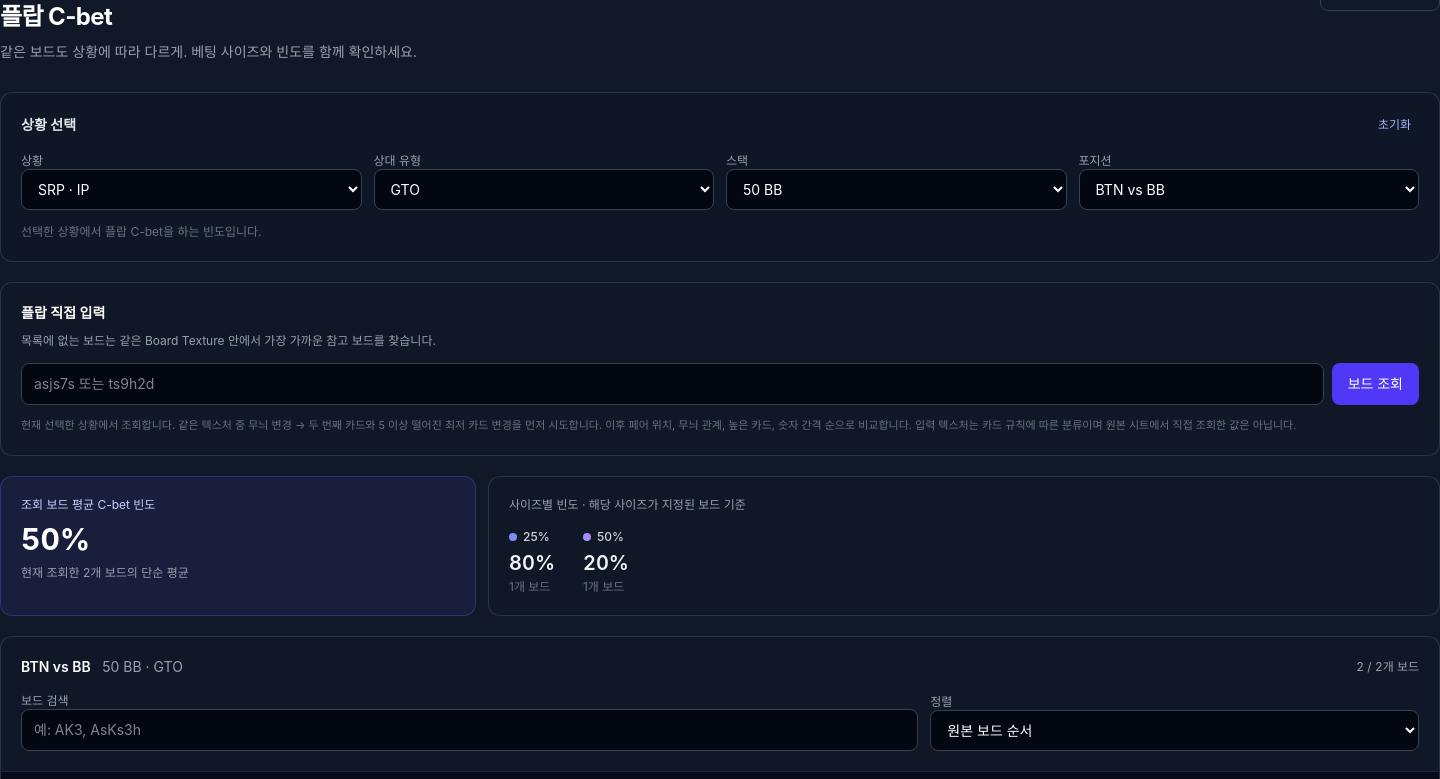
updates graph, dependent controls and action labels without retaining invalid combinations
Expected: the text named "조회 보드 평균 빈도" reads "50%", x1=21 y1=521 x2=90 y2=557
Select "Calling Station" in the dropdown labelled "상대 유형" at (544, 189), box x1=374 y1=169 x2=714 y2=210
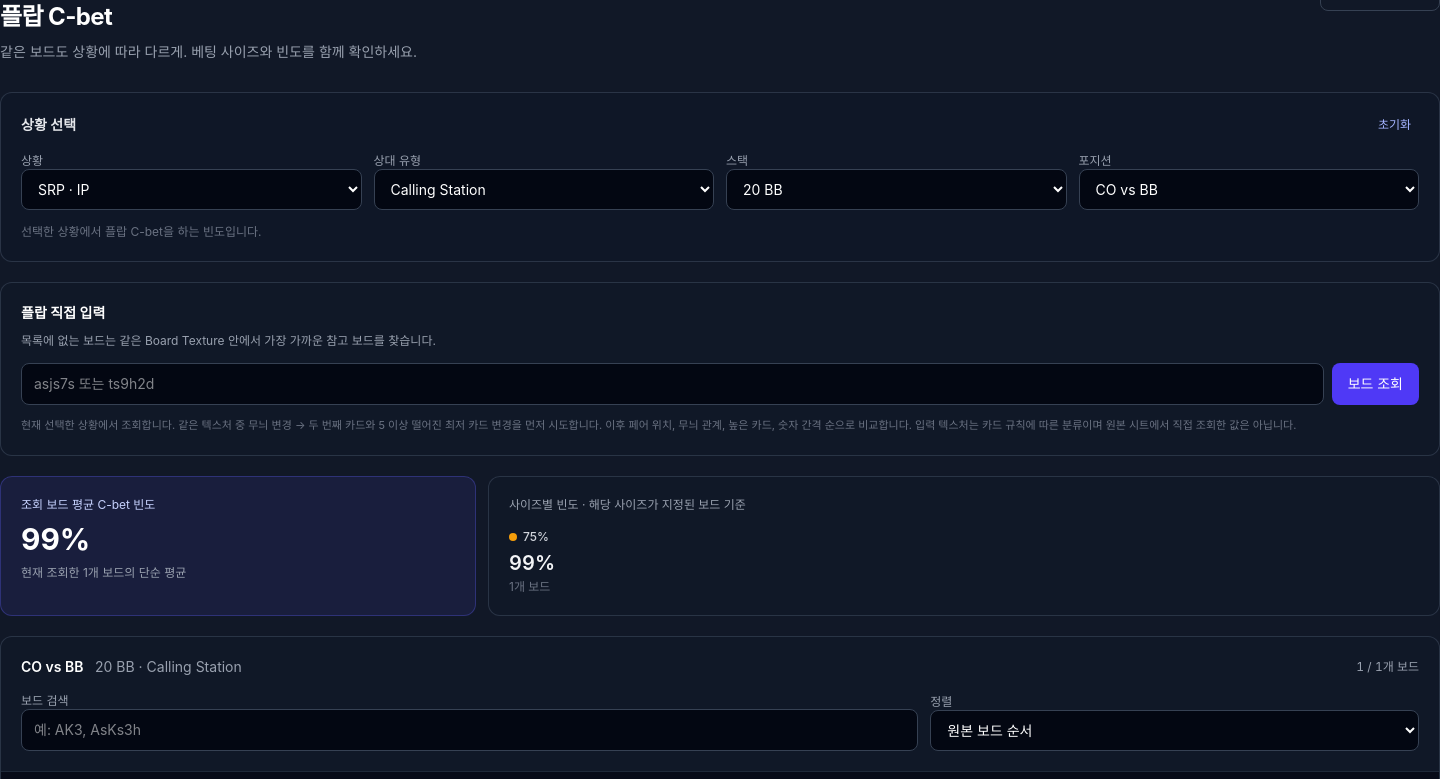
Expected: the dropdown named "스택" shows "20 BB", x1=726 y1=169 x2=1066 y2=210
Select "4벳 팟 · OOP" in the dropdown labelled "상황" at (191, 189), box x1=21 y1=169 x2=362 y2=210
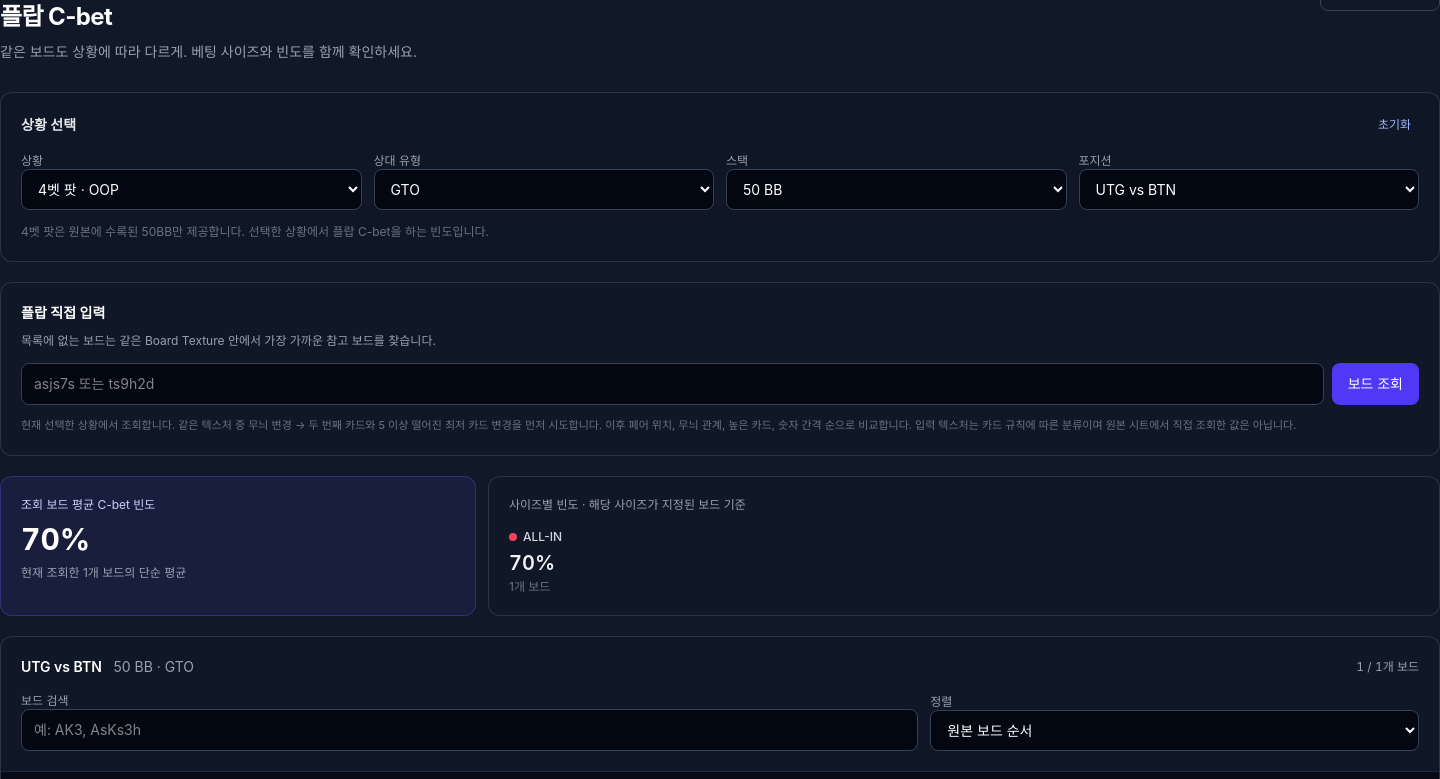
Expected: the dropdown named "스택" shows "50 BB", x1=726 y1=169 x2=1066 y2=210
Select "Blind War" in the dropdown labelled "상황" at (191, 189), box x1=21 y1=169 x2=362 y2=210
(page scrolled)
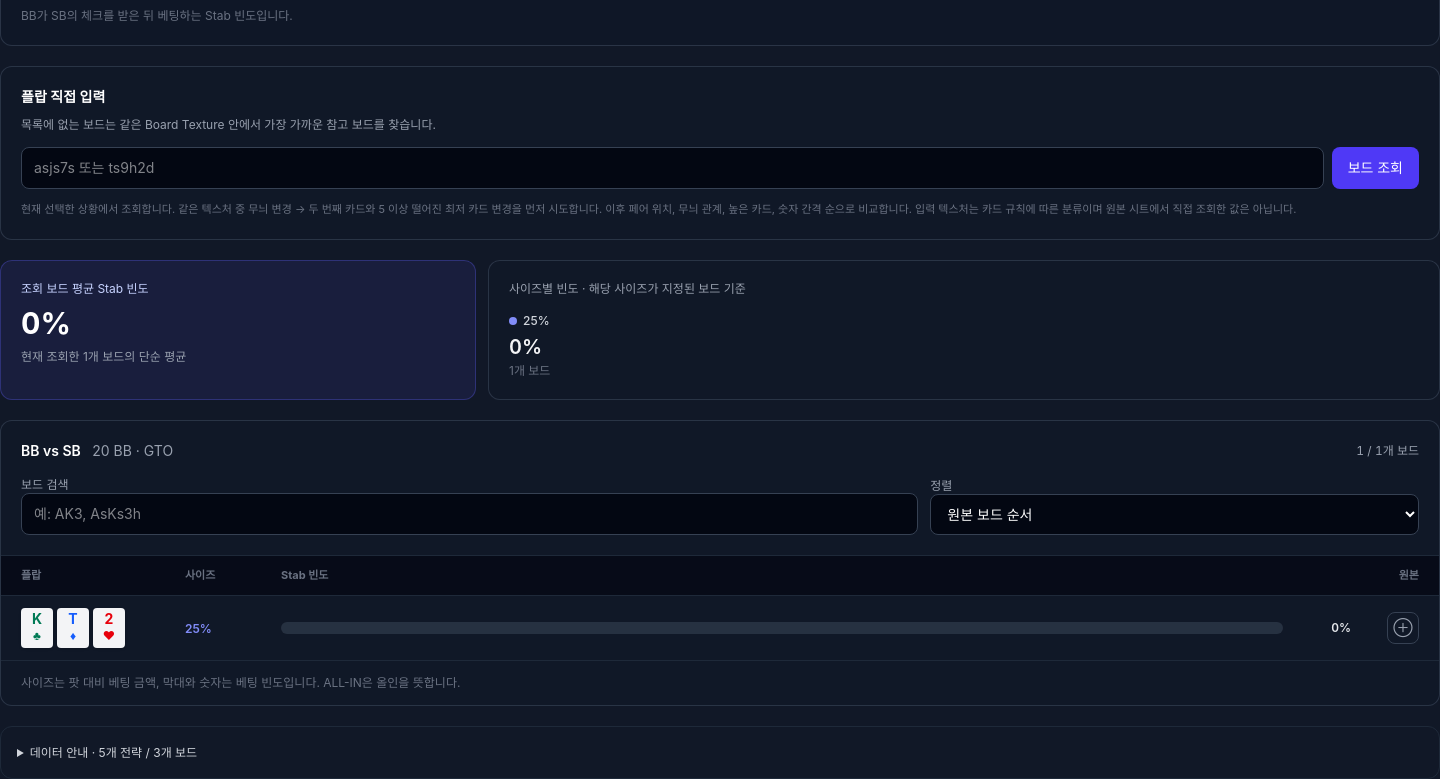
Expected: the element showing "플랍 사이즈 Stab 빈도 원본" is shown, x1=1 y1=555 x2=1439 y2=596
